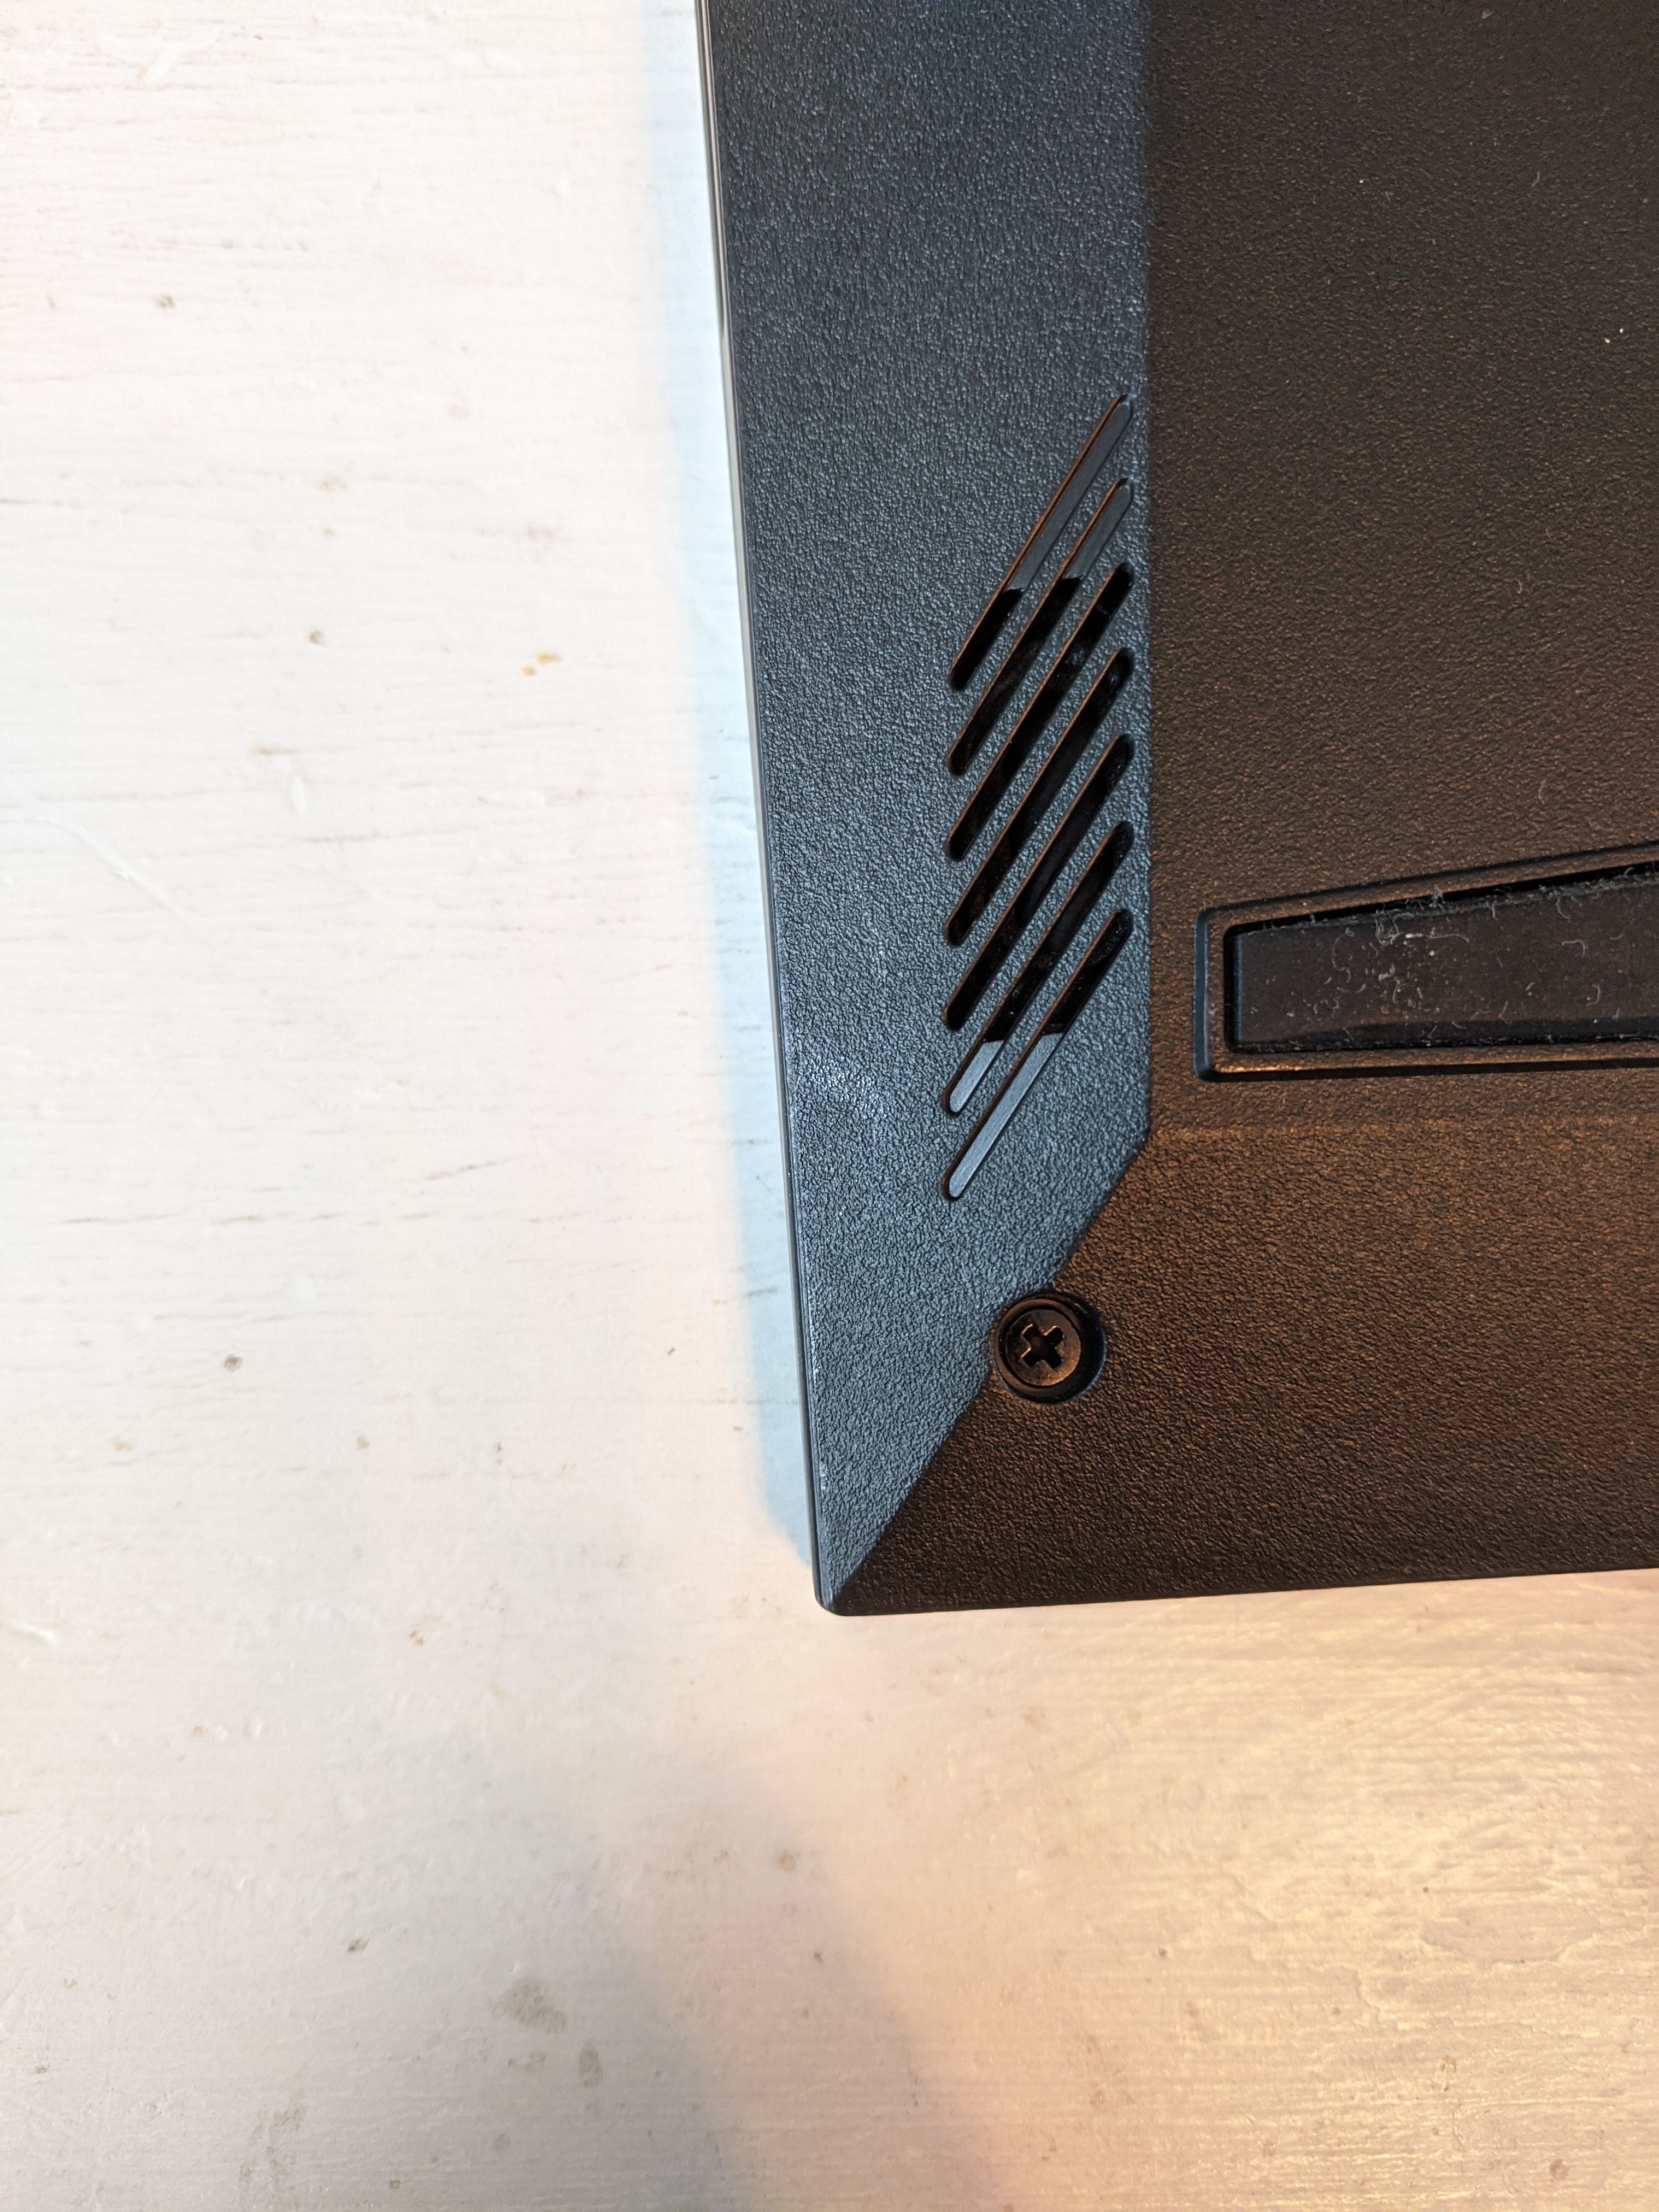cross_recessed_screw: (978, 1284, 1098, 1392)
